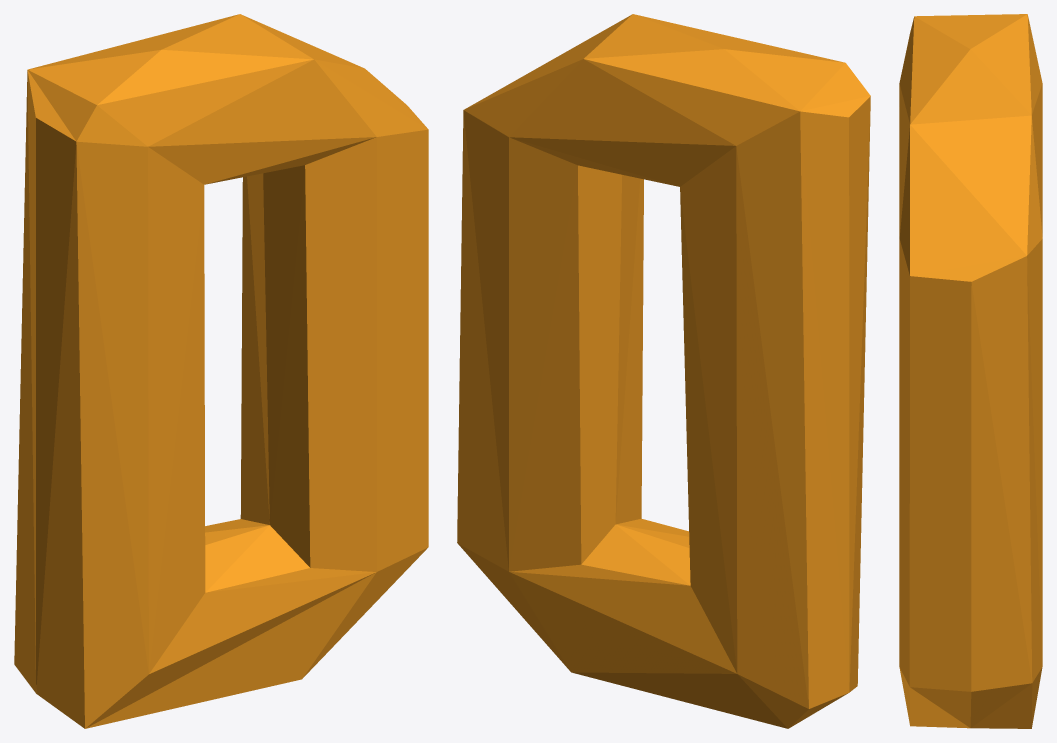
Rendered from SM_Icon_Letter_D_01.fbx.
The picture shows the model from 3 angles, left to right: view 1: azimuth 30°, elevation 25°; view 2: azimuth 150°, elevation 25°; view 3: azimuth 270°, elevation 25°; orthographic projection.
Parts seen in each view (by area): view 1: SM_Icon_Letter_D_01; view 2: SM_Icon_Letter_D_01; view 3: SM_Icon_Letter_D_01.
Part boxes in pixels (x1,y1,x2,y2): SM_Icon_Letter_D_01: (14, 14, 428, 728); SM_Icon_Letter_D_01: (457, 14, 870, 728); SM_Icon_Letter_D_01: (899, 14, 1042, 728).
Bounding box in the file's own units: 33.5 × 55.86 × 11.36.
